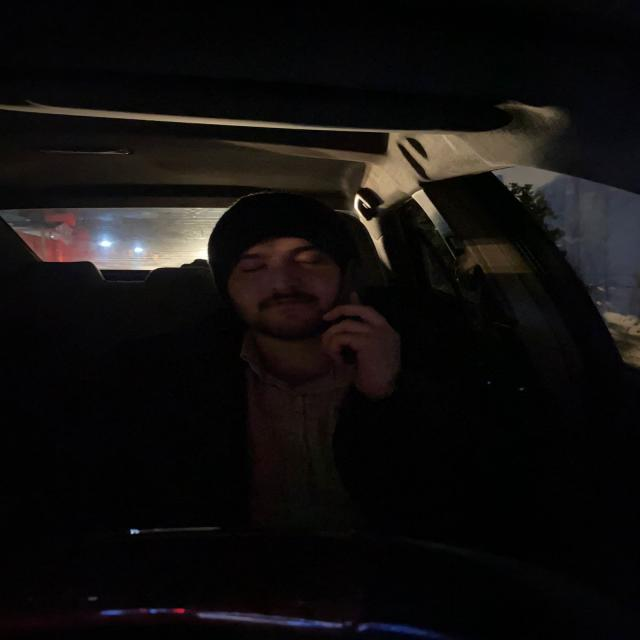drowsy: (205, 188, 349, 342)
